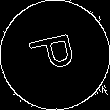P_E: (26, 31, 84, 79)
